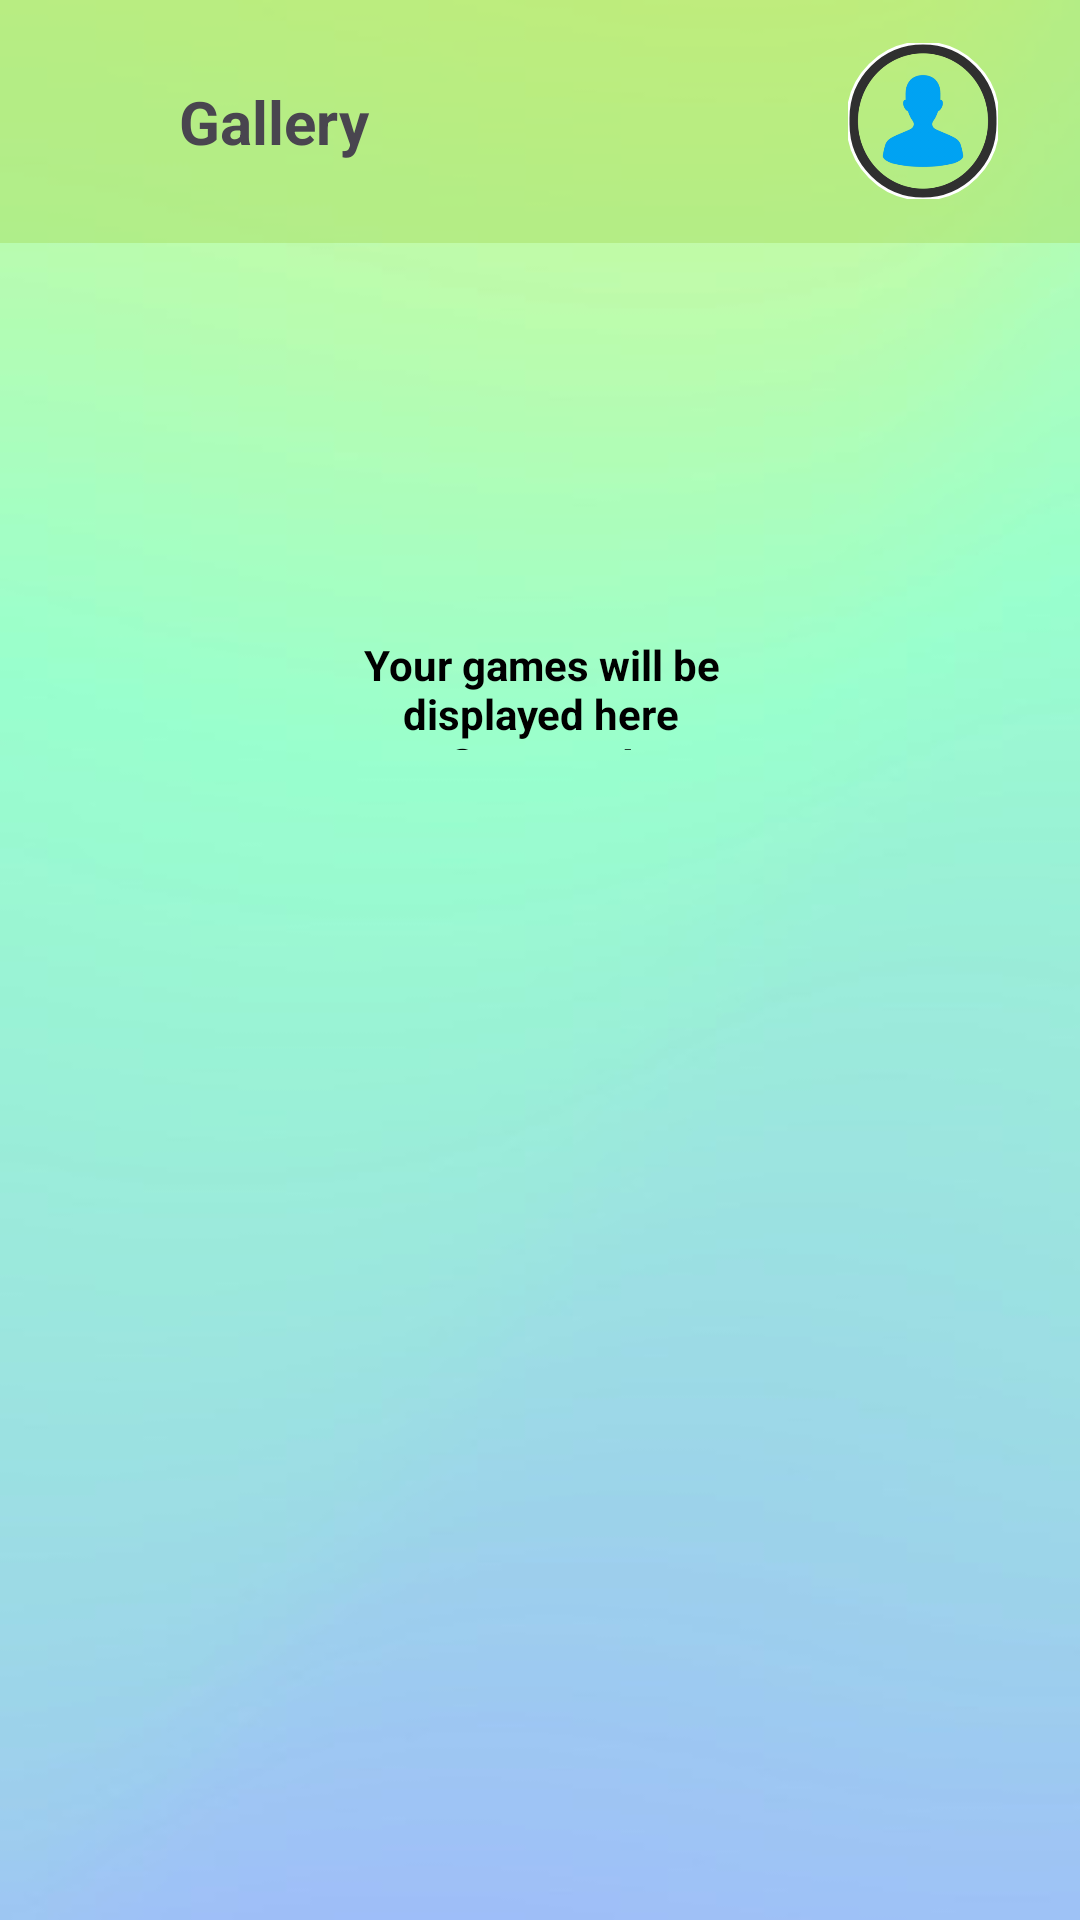

Point at icon controls on the screen. Image size 1080*1920, points as point (x, y).
profile: point (923, 121)
